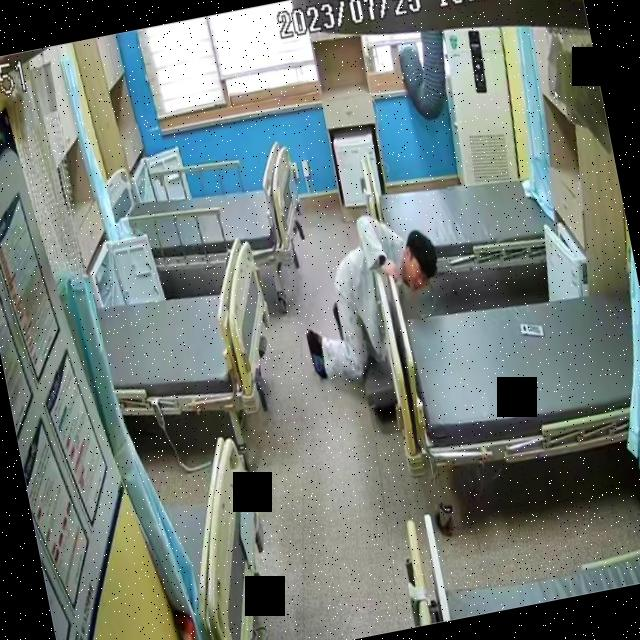bed: (397, 268, 640, 483), (87, 234, 290, 441), (103, 137, 308, 291), (361, 138, 562, 292)
fall: (288, 201, 464, 411)
patient: (288, 200, 466, 412)
